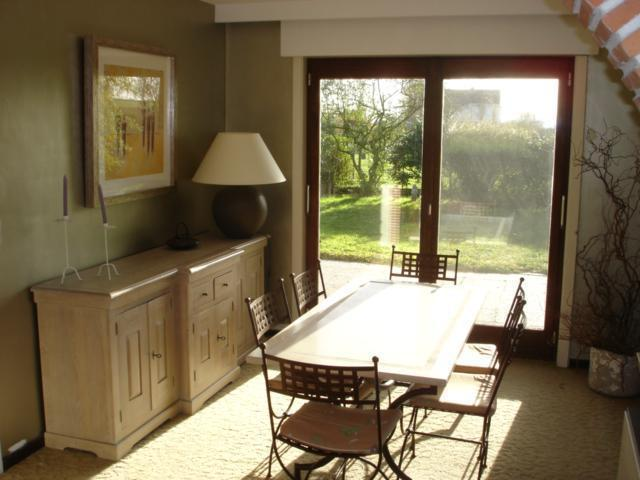Matera: (569, 121, 638, 395)
Puerta: (318, 62, 558, 286)
